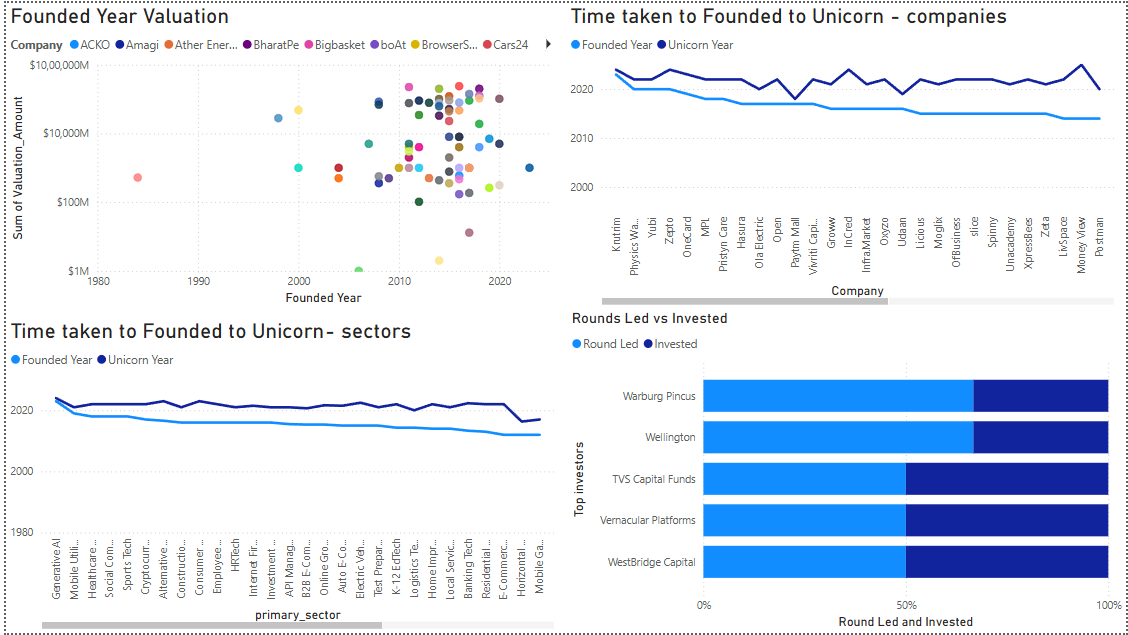

What the dashboard file says about the page in this screenshot:
{"tool":"powerbi","page":{"name":"Findings","canvas":[1280,720],"ordinal":1},"visuals":[{"type":"hundredPercentStackedBarChart","title":"Rounds Led vs Invested","fields":{"Category":["Unicorn_Data.top_investors_1"],"Y":["Count(Unicorn_Data.round_led_by)","Count(Unicorn_Data.top_investors_1)"]},"box":[641.4,350,638.6,370],"z":0},{"type":"scatterChart","title":"Founded Year Valuation","fields":{"Category":["Unicorn_Data.Company"],"X":["Median(Unicorn_Data.founded_year)"],"Series":["Unicorn_Data.Company"],"Y":["Unicorn_Data.Valuation_Amount"]},"box":[0,0,639.5,349.9],"z":1000},{"type":"lineChart","title":"Time taken to Founded to Unicorn - companies","fields":{"Category":["Unicorn_Data.Company"],"Y":["Avg(Unicorn_Data.founded_year)","Avg(Unicorn_Data.unicorn_year)"]},"box":[639.5,0,631.2,349.9],"z":2000},{"type":"lineChart","title":"Time taken to Founded to Unicorn- sectors","fields":{"Y":["Avg(Unicorn_Data.founded_year)","Avg(Unicorn_Data.unicorn_year)"],"Category":["Unicorn_Data.primary_sector"]},"box":[0,360,631.4,360],"z":3000}]}

Visuals, with their boxes in screenshot pixels (x1, y1, x2, y2), scaled from the page's 1280x720 canvas onto the 1128x635 screenshot:
"Rounds Led vs Invested" hundredPercentStackedBarChart: 565,309,1127,634
"Founded Year Valuation" scatterChart: 0,0,564,309
"Time taken to Founded to Unicorn - companies" lineChart: 564,0,1120,309
"Time taken to Founded to Unicorn- sectors" lineChart: 0,318,556,634
